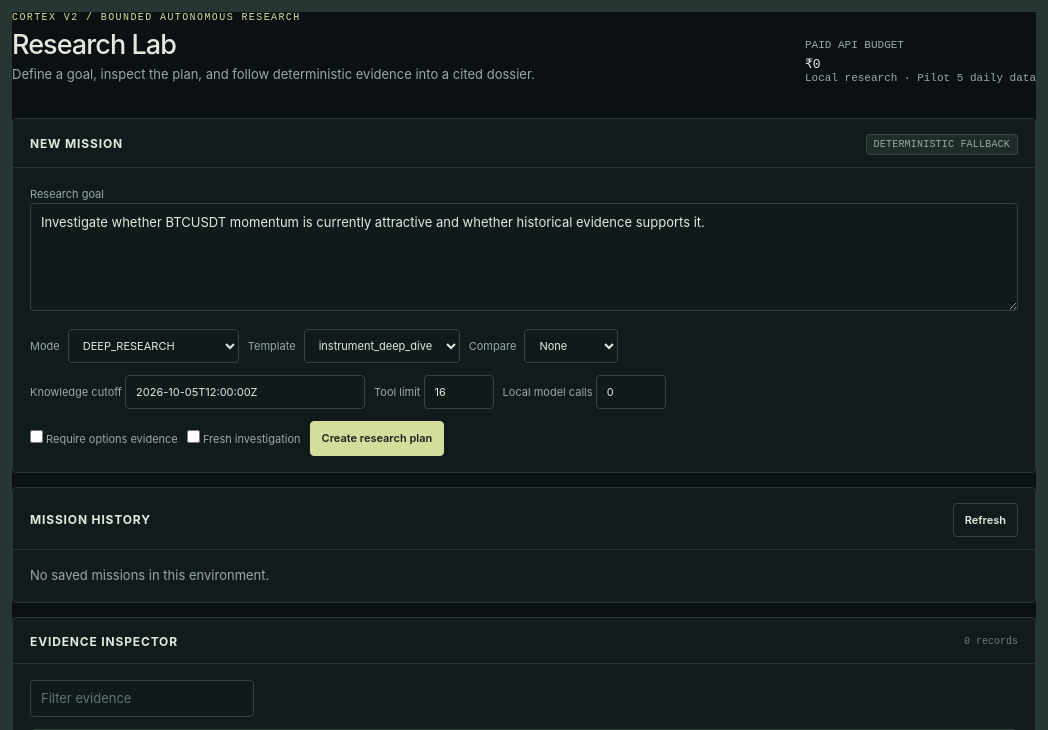
it: Research Lab › surfaces unavailable scope and policy errors without invented facts
Step 1. Click the button "Create research plan" → (377, 438), box [310,421,444,456]
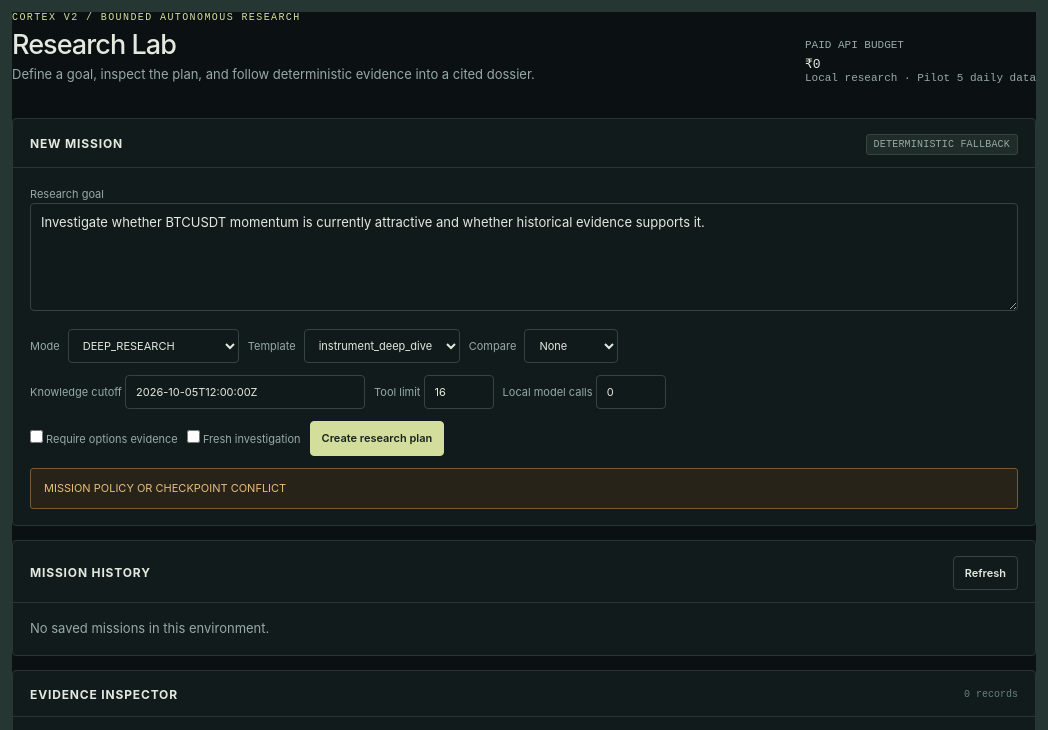
Now the text "MISSION POLICY OR CHECKPOINT CONFLICT" is shown, box [30,468,1018,508]
